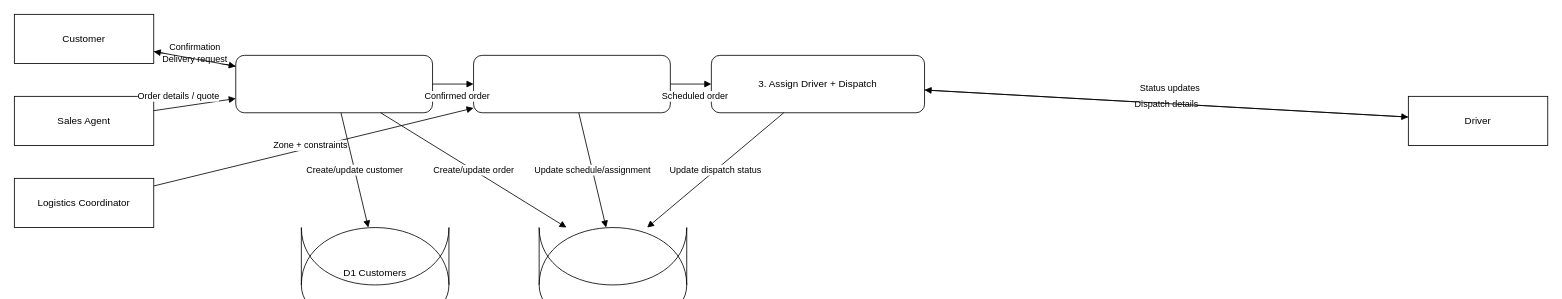
Image size: 1562x299. Some labels were removed from this diagram. The shapes that lost their labels are listed below. From the top down, each one's box as (x1, y1, x2, y2) in pixels, then its label:
(235, 55, 433, 113): 1. Create Quote / Order
(473, 55, 670, 113): 2. Validate + Schedule
(538, 227, 687, 285): D2 Orders
